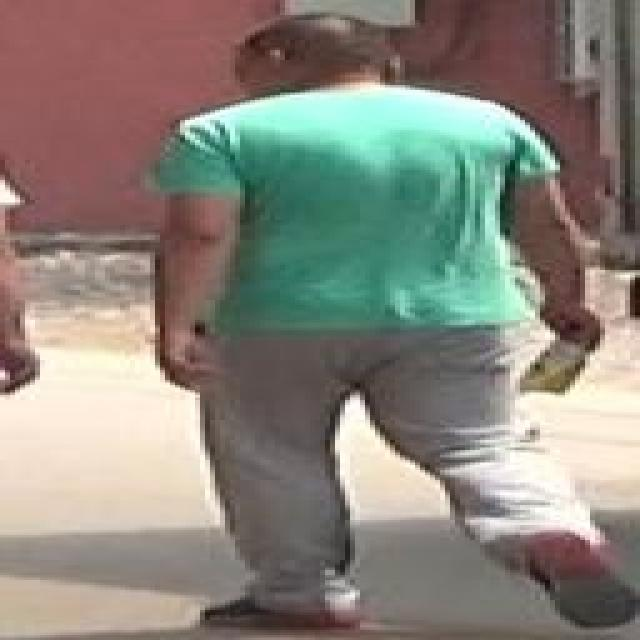adult: (134, 9, 640, 633)
